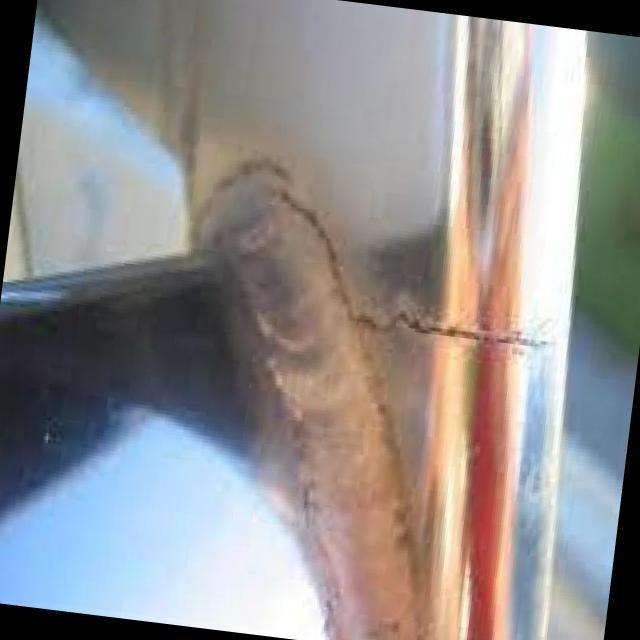defect: (180, 147, 564, 357)
